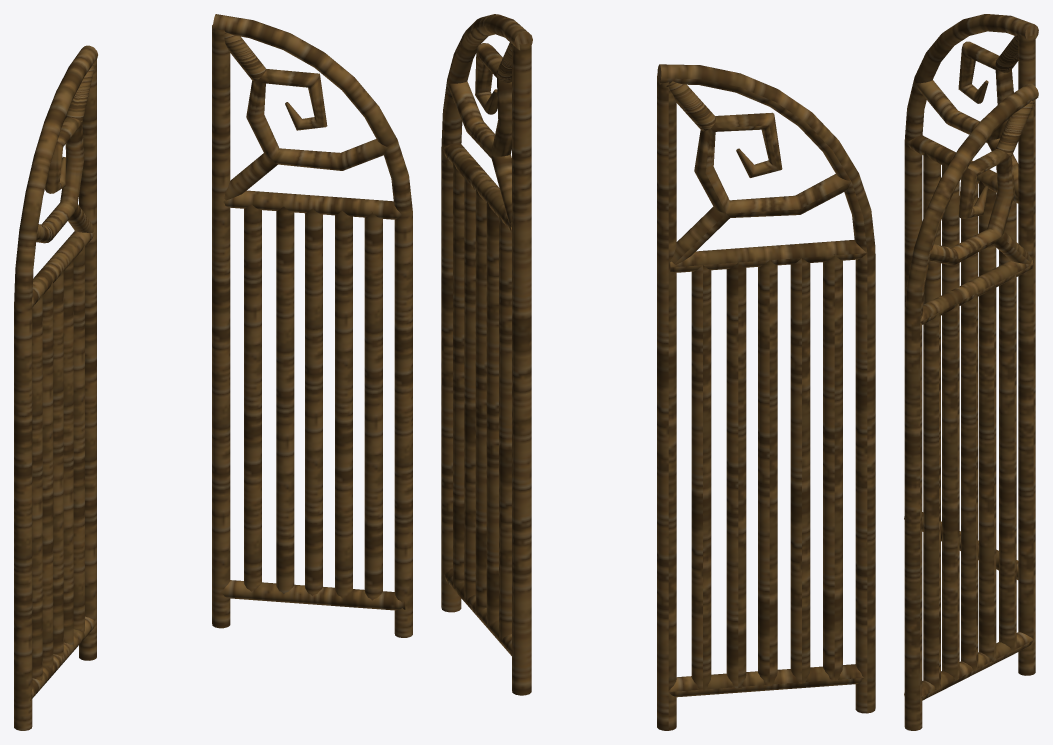
File: SM_Gate.fbx
3 views of the same model, side by side, from view 1: azimuth 30°, elevation 25°; view 2: azimuth 150°, elevation 25°; view 3: azimuth 270°, elevation 25° (orthographic). The views are drawn at different scales.
Visible parts, largest first — view 1: SM_Gate; view 2: SM_Gate; view 3: SM_Gate.
Part boxes in pixels (<box>): SM_Gate: <box>14,14,412,730</box>; SM_Gate: <box>441,14,875,730</box>; SM_Gate: <box>904,14,1038,730</box>.
Bounding box in the file's own units: 563 × 827 × 172.
